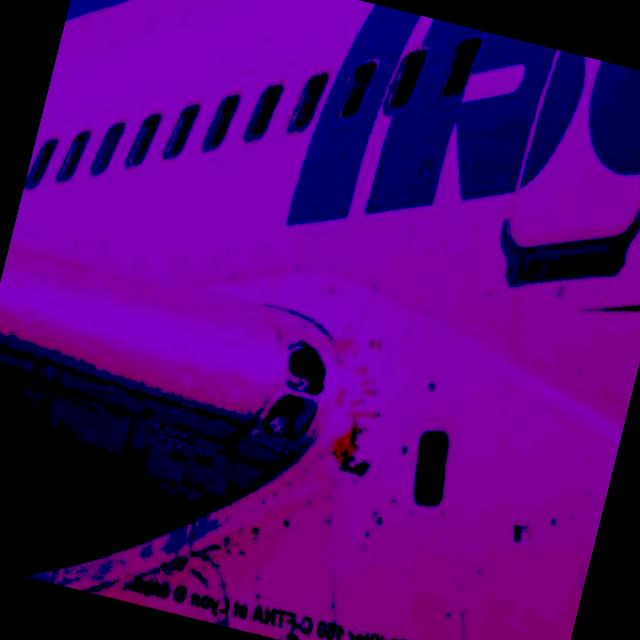dent: (0, 262, 263, 410)
